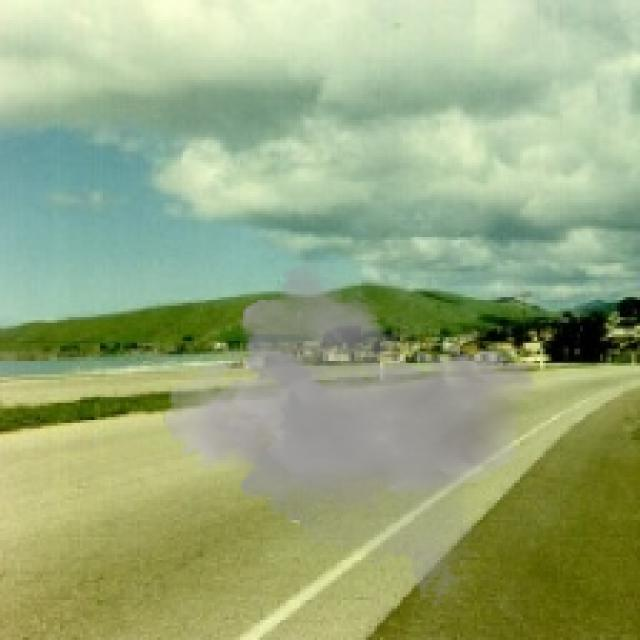smoke: (163, 254, 537, 609)
